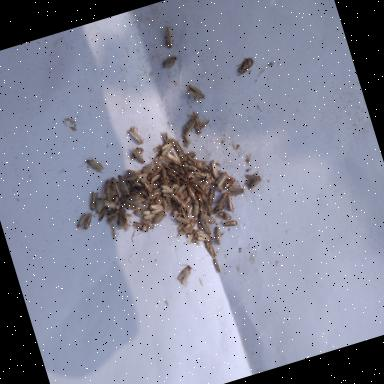pbw: (231, 54, 260, 78), (181, 82, 207, 106), (126, 124, 147, 148), (173, 219, 198, 239), (98, 176, 116, 202), (158, 51, 180, 72), (222, 192, 239, 219), (159, 130, 176, 156), (131, 145, 149, 169), (226, 184, 250, 202), (160, 23, 176, 49), (201, 238, 218, 262), (178, 118, 198, 138), (116, 172, 132, 196), (114, 206, 130, 229), (86, 190, 102, 212), (78, 212, 96, 231), (102, 208, 120, 227), (199, 210, 217, 228), (101, 197, 120, 214), (147, 200, 167, 216), (124, 192, 146, 206), (188, 155, 206, 172), (159, 180, 176, 198), (212, 171, 230, 188), (215, 207, 233, 224), (150, 210, 168, 227), (132, 219, 150, 236), (95, 204, 112, 222), (206, 159, 220, 180), (198, 215, 212, 236), (73, 213, 89, 231), (210, 257, 226, 275), (196, 229, 214, 245), (109, 176, 122, 198), (173, 213, 192, 228), (180, 217, 199, 232), (172, 138, 185, 159), (204, 189, 220, 206), (170, 161, 186, 178), (130, 206, 148, 221), (189, 177, 203, 196), (139, 174, 153, 193), (211, 226, 224, 246), (144, 185, 162, 199), (130, 178, 148, 192), (188, 200, 202, 218), (188, 228, 202, 246), (164, 160, 178, 178), (120, 211, 134, 229), (210, 200, 228, 214), (180, 159, 196, 174), (198, 177, 214, 192), (140, 216, 155, 232), (196, 159, 211, 175), (107, 221, 118, 242), (182, 230, 197, 245), (141, 207, 157, 221), (184, 183, 196, 201), (180, 150, 198, 162), (194, 168, 210, 181), (220, 176, 237, 188), (181, 130, 192, 148), (121, 198, 135, 212), (184, 170, 198, 184), (150, 154, 166, 166), (216, 191, 229, 205), (150, 145, 164, 158), (203, 199, 213, 217), (142, 194, 158, 205), (222, 219, 238, 230), (186, 202, 196, 219), (147, 178, 160, 191), (140, 162, 154, 174), (168, 152, 180, 166), (126, 166, 140, 178), (172, 177, 187, 188), (134, 170, 150, 180), (159, 166, 169, 182), (175, 183, 188, 195), (150, 172, 162, 184), (164, 202, 176, 214), (116, 193, 128, 205), (161, 190, 172, 203), (147, 166, 161, 176), (172, 194, 182, 208), (195, 216, 204, 231), (213, 180, 224, 192), (178, 198, 188, 211), (126, 174, 138, 184), (132, 187, 144, 197), (168, 174, 180, 184), (180, 208, 190, 220), (134, 200, 146, 210), (196, 191, 204, 205), (127, 181, 135, 195), (185, 168, 196, 178), (154, 195, 164, 206), (160, 198, 168, 210), (158, 176, 170, 184), (182, 196, 192, 205), (171, 208, 181, 216), (179, 192, 188, 199)
